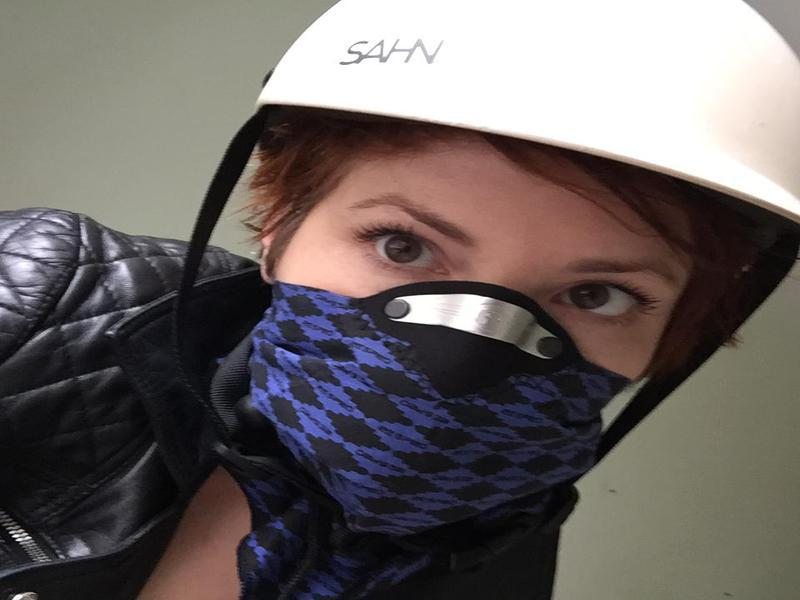with_mask: (233, 138, 689, 600)
